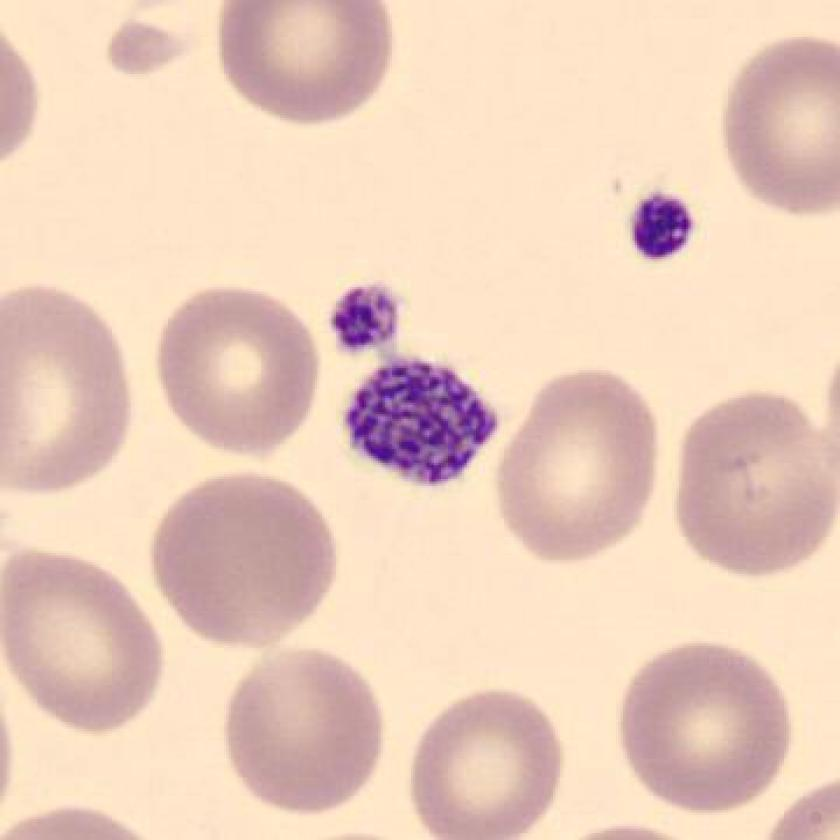platelets: (335, 353, 510, 496), (613, 182, 711, 274), (323, 270, 412, 365)
